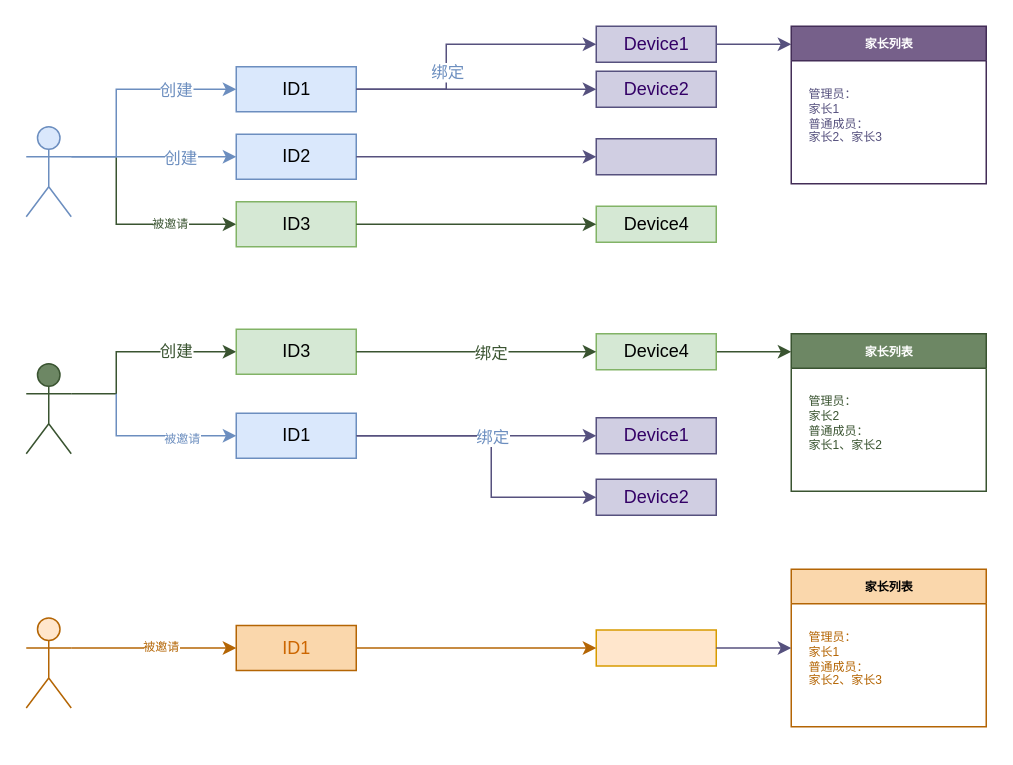
Image size: 1013x765. Some labels were removed from this diagram. Each missing label, with the centre of its shape:
Device3: (x=655, y=156)
Device5: (x=655, y=647)
家长1: (x=48, y=171)
家长2: (x=48, y=408)
家长3: (x=48, y=662)
